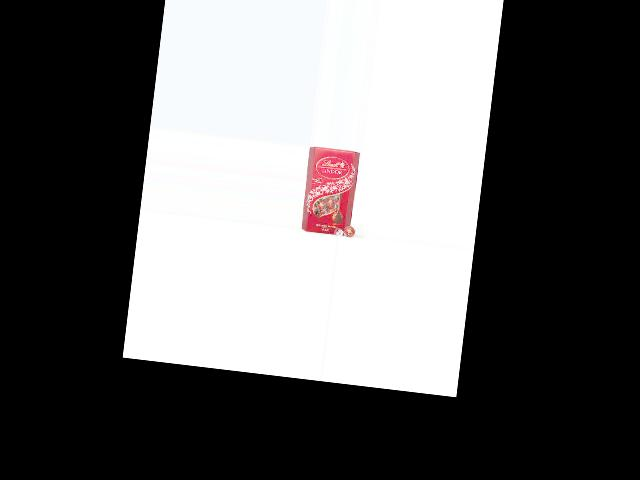chocolate: (300, 146, 365, 237)
